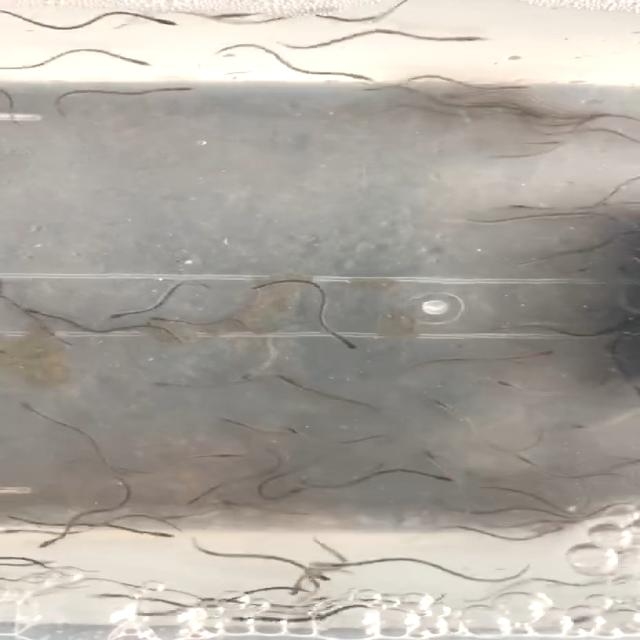active_glass_eel: (447, 21, 491, 50), (117, 49, 174, 71), (315, 330, 367, 354), (284, 373, 328, 398), (138, 84, 198, 100), (128, 528, 176, 548), (344, 66, 386, 88), (521, 346, 567, 366), (143, 380, 194, 398), (558, 111, 610, 128), (284, 426, 324, 448), (420, 451, 468, 469), (295, 558, 344, 574), (85, 586, 141, 600), (312, 66, 358, 83), (486, 376, 525, 396), (514, 462, 562, 478), (138, 310, 176, 330), (497, 194, 539, 212), (191, 450, 236, 466), (20, 406, 59, 424), (174, 510, 220, 525), (228, 368, 266, 386), (345, 558, 393, 572), (254, 612, 295, 628), (438, 404, 474, 422), (280, 580, 316, 598), (582, 578, 622, 594), (136, 12, 174, 28), (102, 307, 144, 321), (562, 420, 594, 438), (419, 473, 467, 485), (10, 308, 50, 322), (0, 523, 28, 543), (36, 536, 70, 552), (472, 82, 516, 94), (578, 540, 610, 556), (10, 561, 46, 575), (489, 474, 522, 489), (577, 212, 611, 226), (282, 485, 310, 501), (594, 193, 618, 210), (535, 530, 564, 544)
